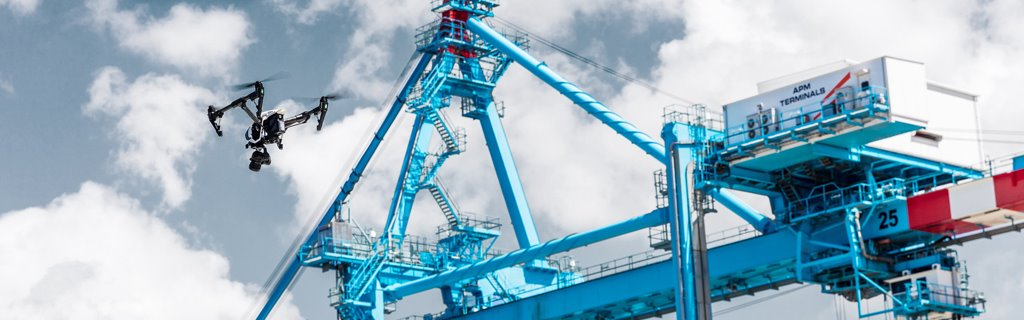drone: (188, 69, 374, 182)
